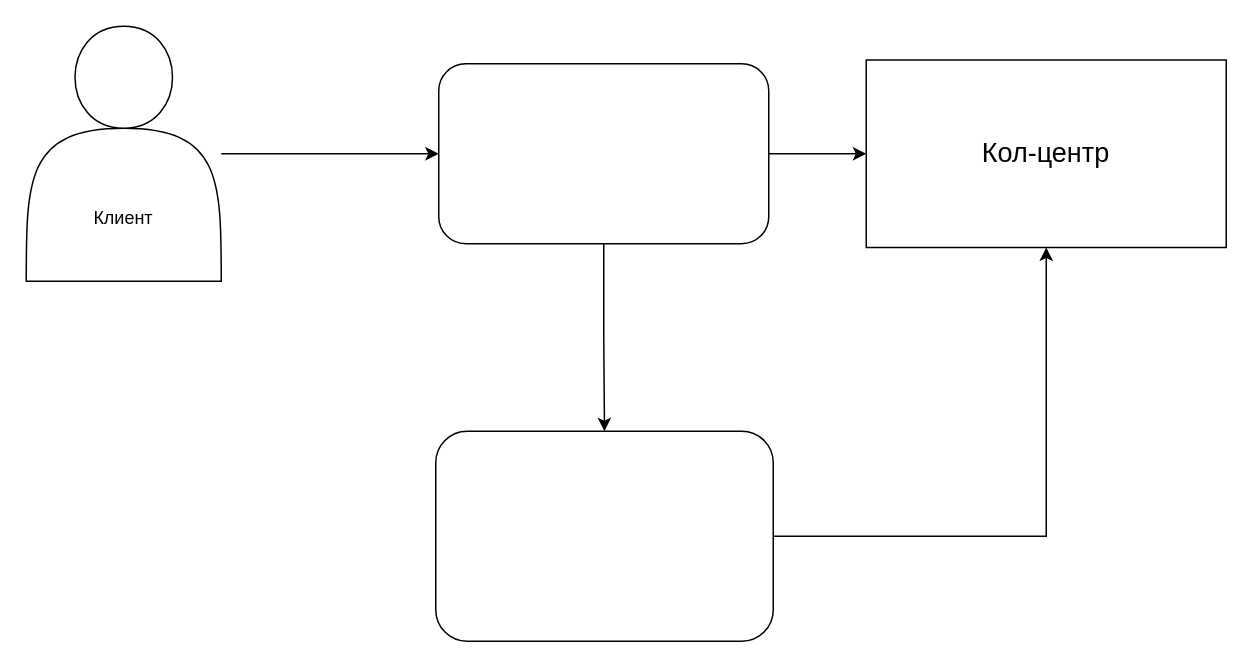
Some shapes in this 1253 by 668 pixel diagram are drawn without their labels. Each missing label, with the box of its shape:
АБС: (434, 430, 773, 641)
Интернет-банк / сайт: (437, 62, 769, 244)
